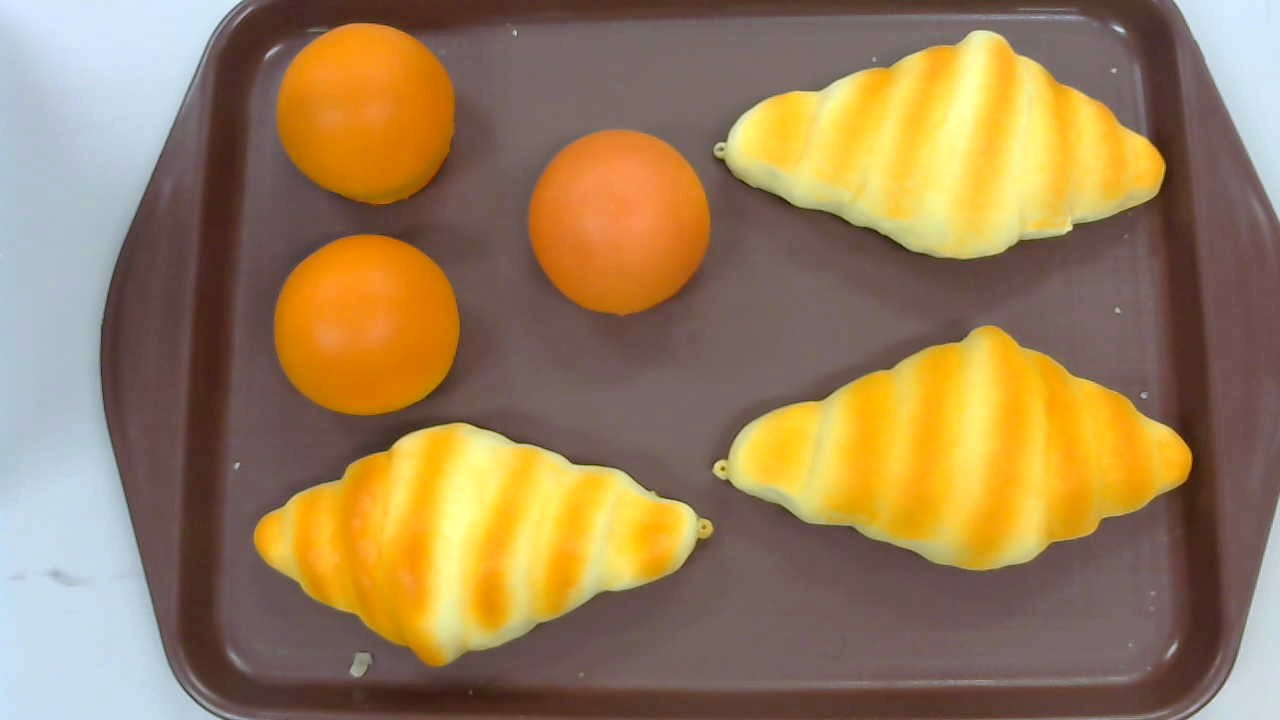bun: (526, 128, 711, 318), (272, 232, 461, 415), (276, 22, 457, 205)
croissant: (713, 323, 1195, 571), (253, 422, 714, 667), (714, 28, 1166, 261)
